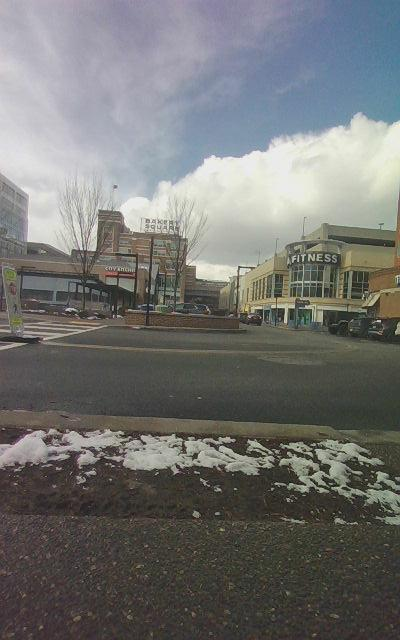curb: (0, 412, 399, 639)
road: (0, 322, 399, 428), (0, 321, 7, 335)
